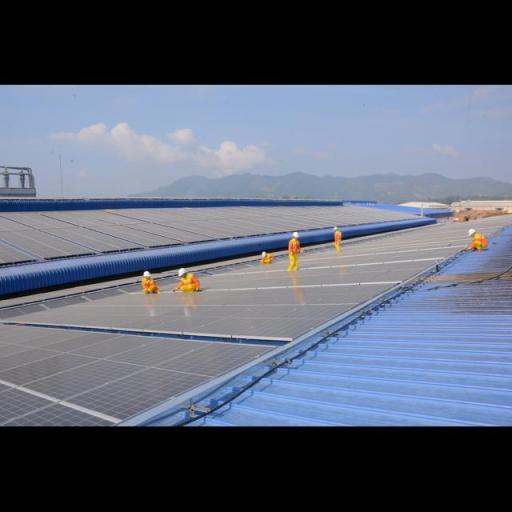helmet: (286, 226, 303, 244), (173, 262, 189, 279), (139, 264, 153, 282), (465, 225, 480, 238)
